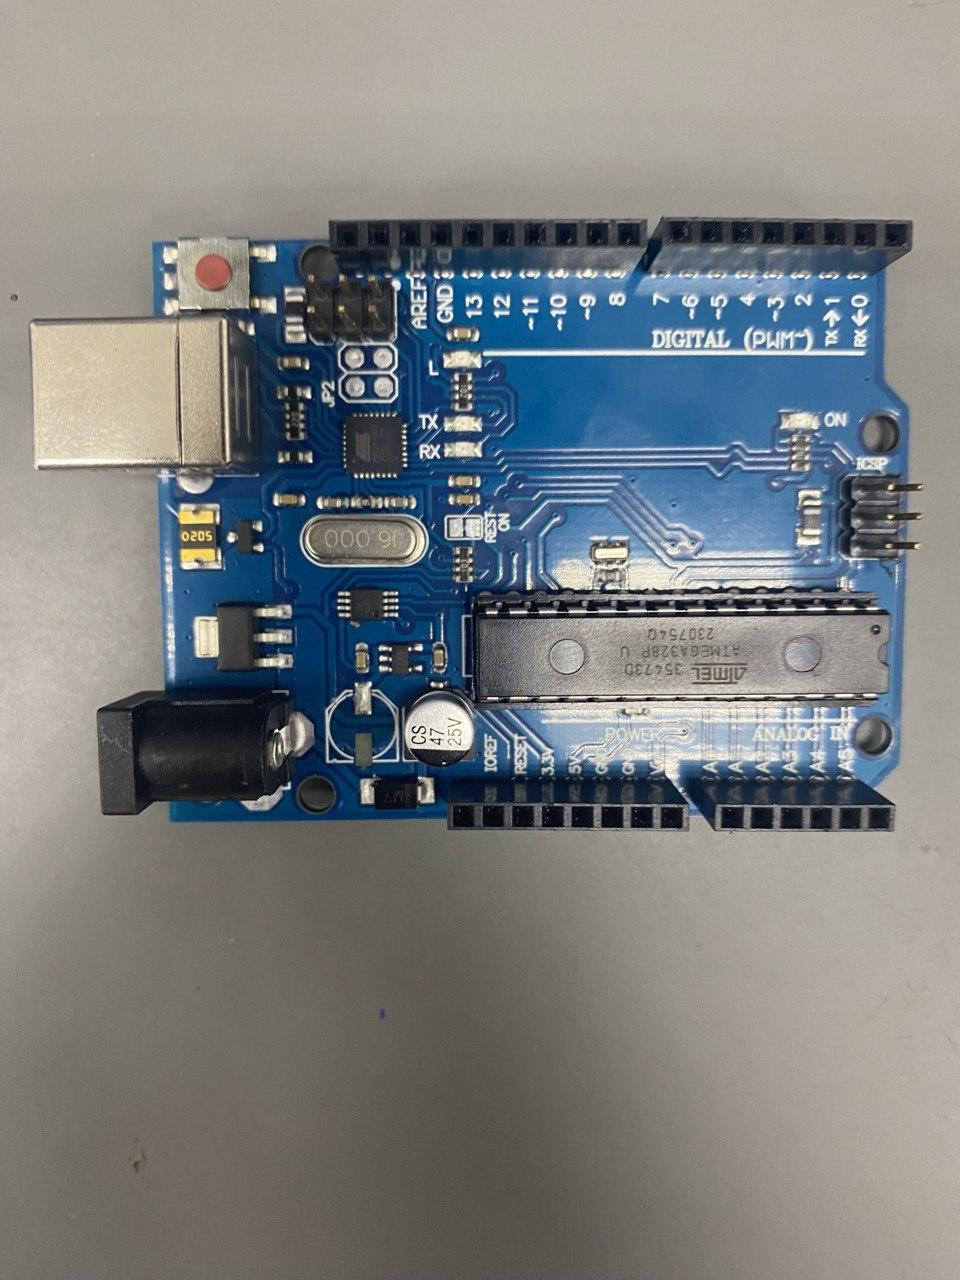ATmega328 chip: (473, 592, 891, 711)
Arduino board: (30, 215, 925, 834)
USB: (31, 314, 262, 479)
capacitor: (402, 687, 481, 767)
pins: (329, 218, 648, 275), (641, 215, 913, 278), (448, 777, 691, 833), (693, 778, 895, 831)
resistor: (791, 434, 811, 474), (453, 373, 473, 412), (454, 544, 473, 583), (285, 403, 305, 440)
